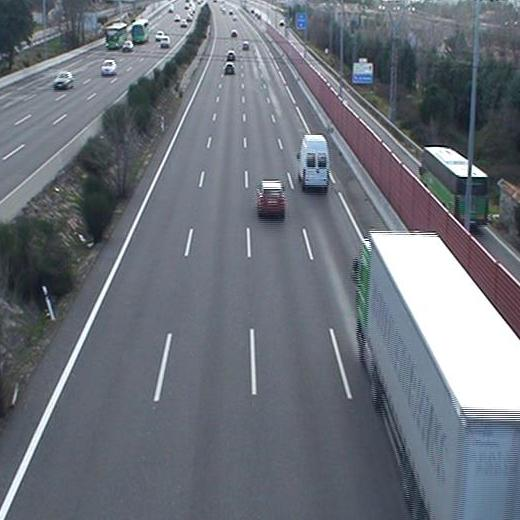car: (253, 179, 288, 219), (223, 62, 236, 75), (225, 50, 237, 62)
truck: (354, 227, 520, 517)
van: (296, 133, 331, 192)
